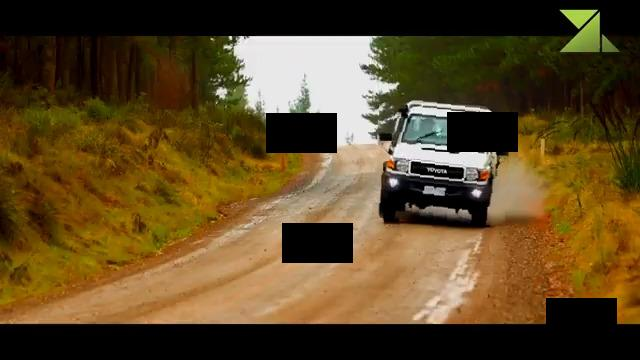MIL_HMMWV: (374, 100, 511, 224)
